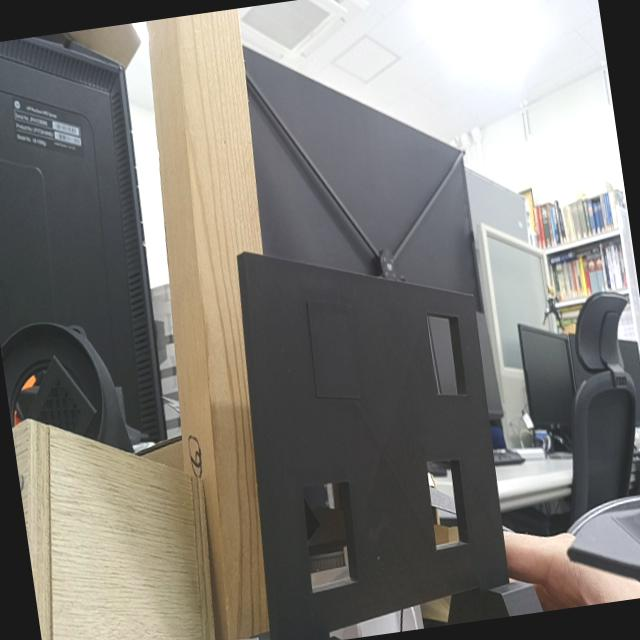Obstacle: (303, 480, 357, 592), (426, 460, 468, 548), (426, 313, 467, 394)
Wall: (245, 252, 511, 640)
